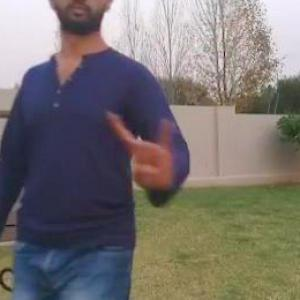takeoff-hand: (103, 110, 180, 192)
